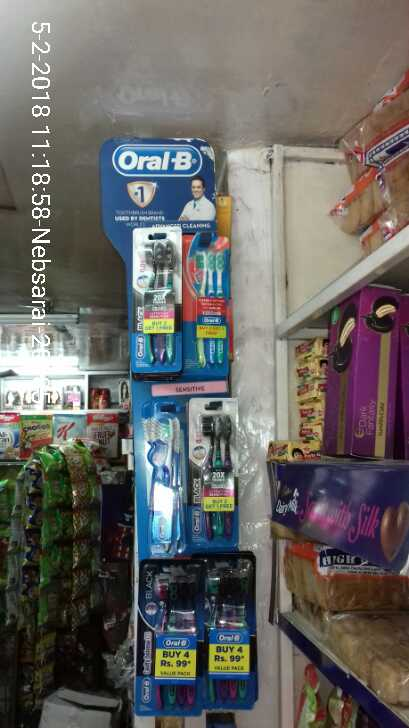oralb: (150, 569, 200, 718), (206, 561, 253, 712), (183, 248, 232, 377), (139, 408, 184, 547), (133, 237, 180, 368), (199, 406, 238, 543)
